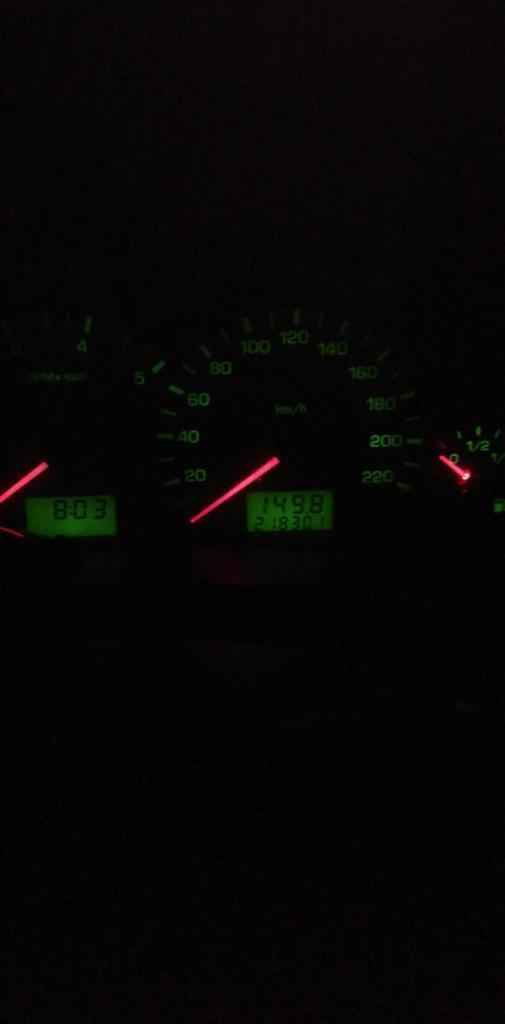,: (304, 509, 309, 515)
0: (302, 515, 312, 531)
1: (261, 494, 269, 514), (271, 516, 277, 530), (318, 515, 324, 528)
2: (254, 515, 264, 531)
3: (290, 515, 300, 531)
4: (272, 493, 286, 513)
8: (310, 493, 324, 513), (279, 515, 288, 531)
9: (291, 493, 304, 515)
odometer: (246, 490, 335, 533)
